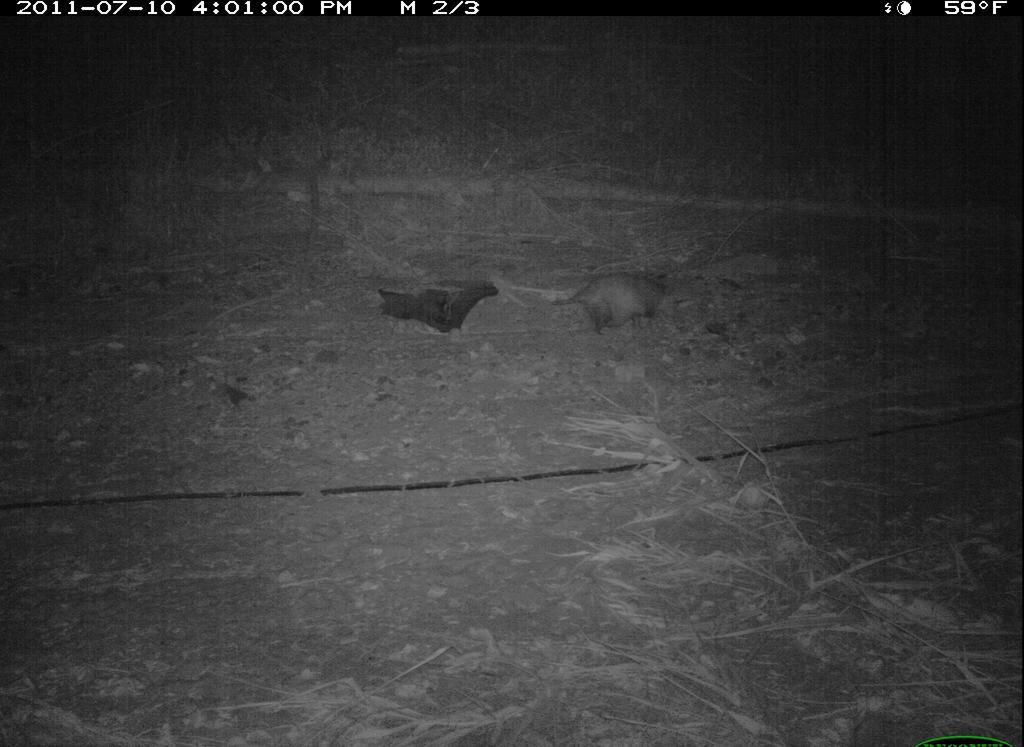opossum: (530, 258, 692, 353)
